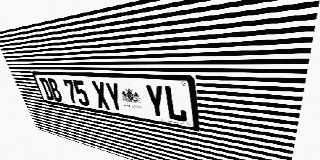5: (72, 80, 91, 107)
7: (62, 79, 80, 105)
B: (47, 78, 64, 102)
D: (39, 78, 55, 101)
L: (163, 85, 188, 123)
X: (91, 81, 111, 110)
Y: (144, 84, 167, 119), (104, 82, 125, 112)
